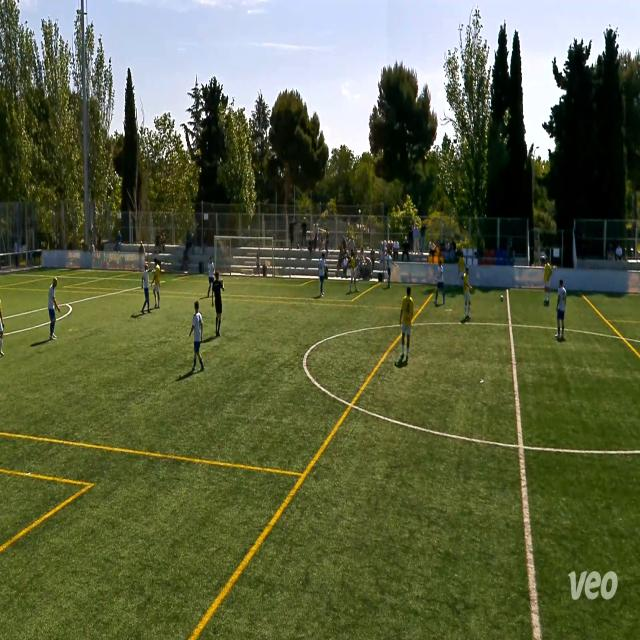bigarea_top_outter: (7, 268, 16, 280)
halfcircle_bottom: (512, 432, 532, 466)
halfcircle_top: (504, 314, 518, 338)
midline_top_intersection: (502, 281, 512, 296)
top_arc_area_intersection: (62, 294, 73, 313)
